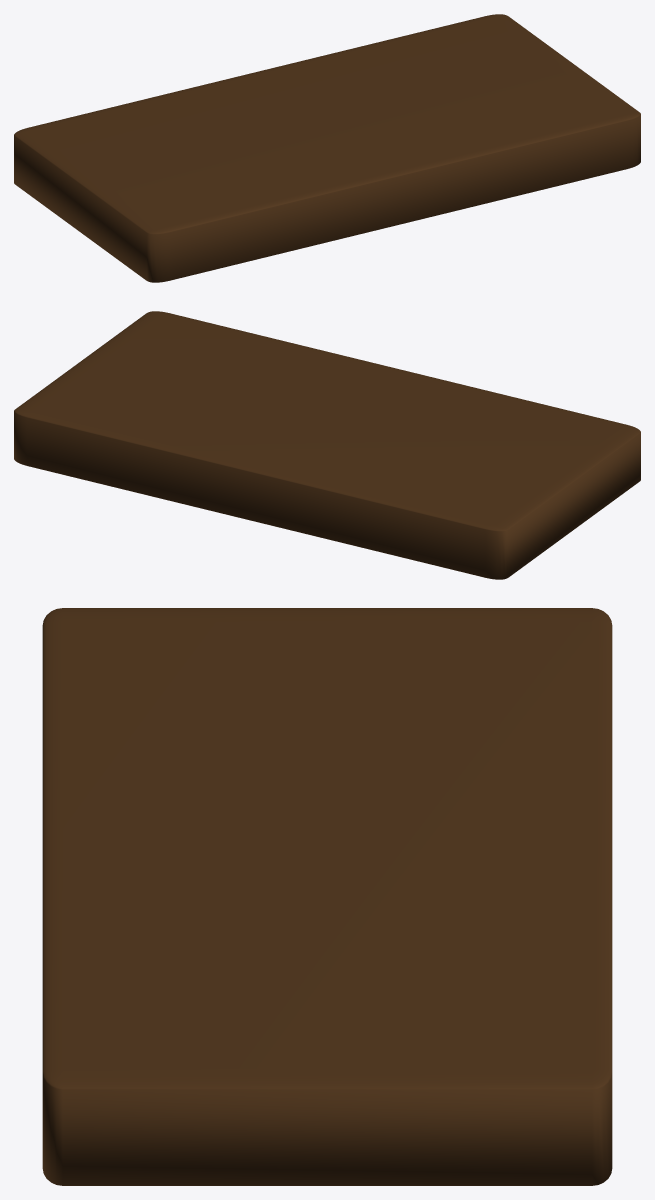
The model's file is DefaultPantsWaist.fbx.
3 views of the same model, one above another, from view 1: azimuth 30°, elevation 25°; view 2: azimuth 150°, elevation 25°; view 3: azimuth 270°, elevation 25° (orthographic). The views are drawn at different scales.
Parts seen in each view (by area): view 1: Waist; view 2: Waist; view 3: Waist.
Part boxes in pixels (box(x1,y1,x2,y2)): Waist: box(14, 14, 640, 282); Waist: box(14, 311, 640, 579); Waist: box(42, 608, 612, 1185).
Bounding box in the file's own units: 201 × 20.12 × 101.
